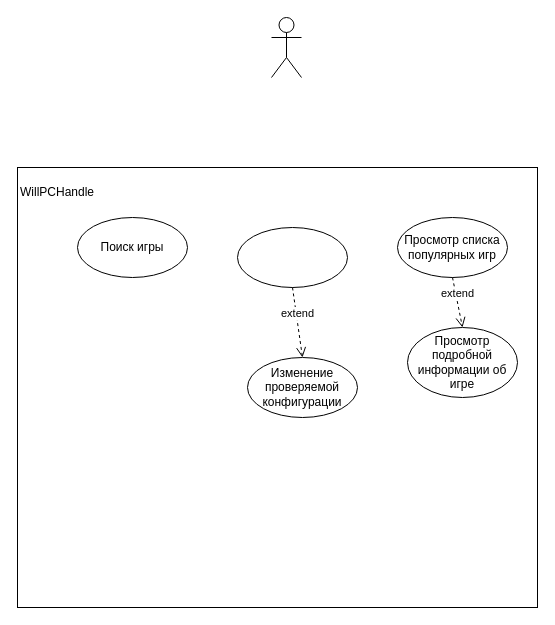
Image size: 555x625. Some labels were removed from this diagram. Each missing label, with the box of its shape:
Пользователь: (270, 16, 302, 78)
Просмотр совместимости требований: (236, 226, 348, 288)
